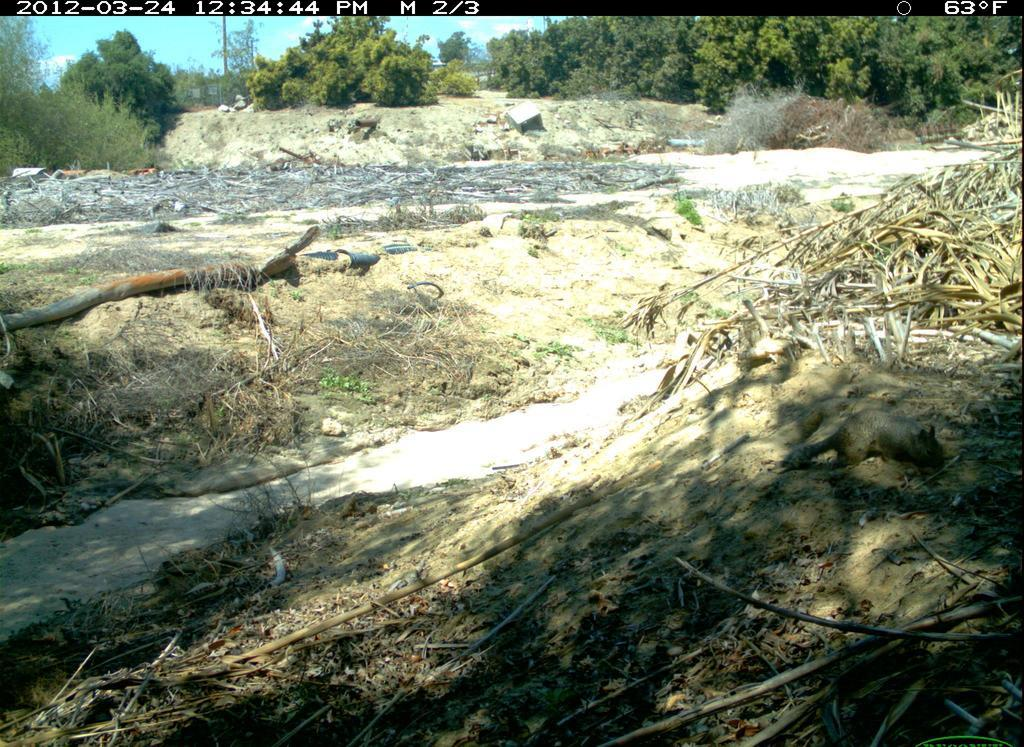squirrel: (779, 404, 953, 486)
